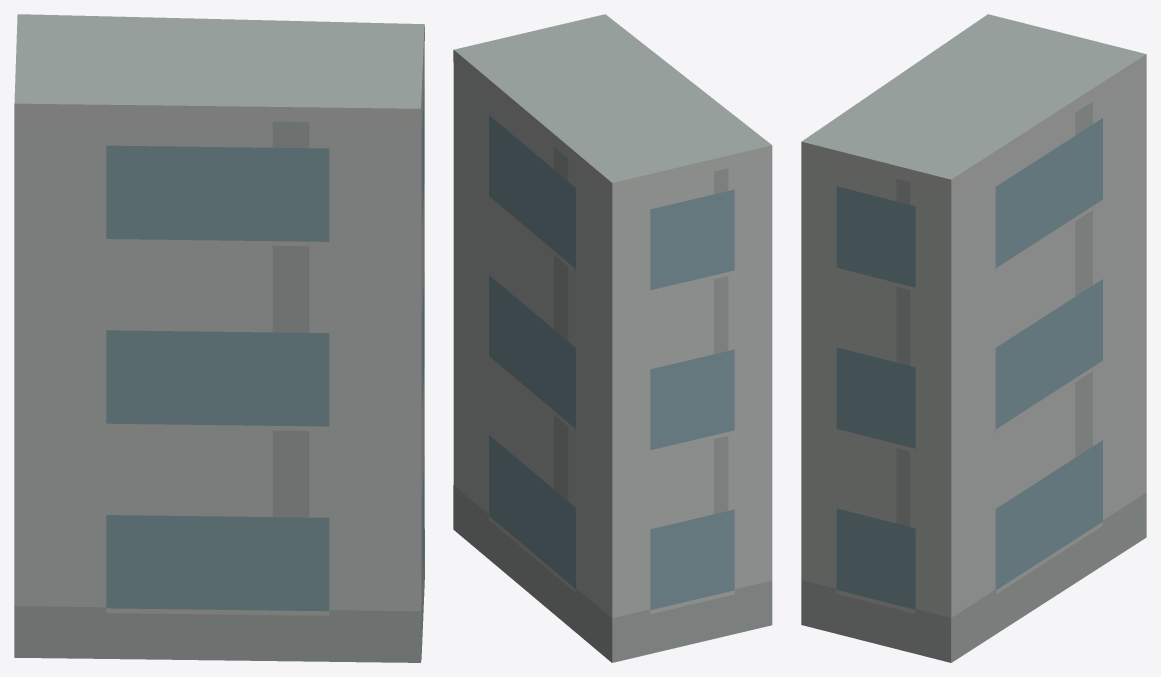
File: survey-upis-33006869.glb
3 views of the same model, side by side, from view 1: azimuth 30°, elevation 25°; view 2: azimuth 150°, elevation 25°; view 3: azimuth 270°, elevation 25° (orthographic). The views are drawn at different scales.
Parts seen in each view (by area): view 1: survey-upis-33006869.tmp; view 2: survey-upis-33006869.tmp; view 3: survey-upis-33006869.tmp.
Boxes of the visible parts, <box> form: survey-upis-33006869.tmp: <box>14,14,424,662</box>; survey-upis-33006869.tmp: <box>453,14,772,662</box>; survey-upis-33006869.tmp: <box>801,14,1146,662</box>.
Size of the model in its own units: 6.73 by 9.15 by 5.93.
